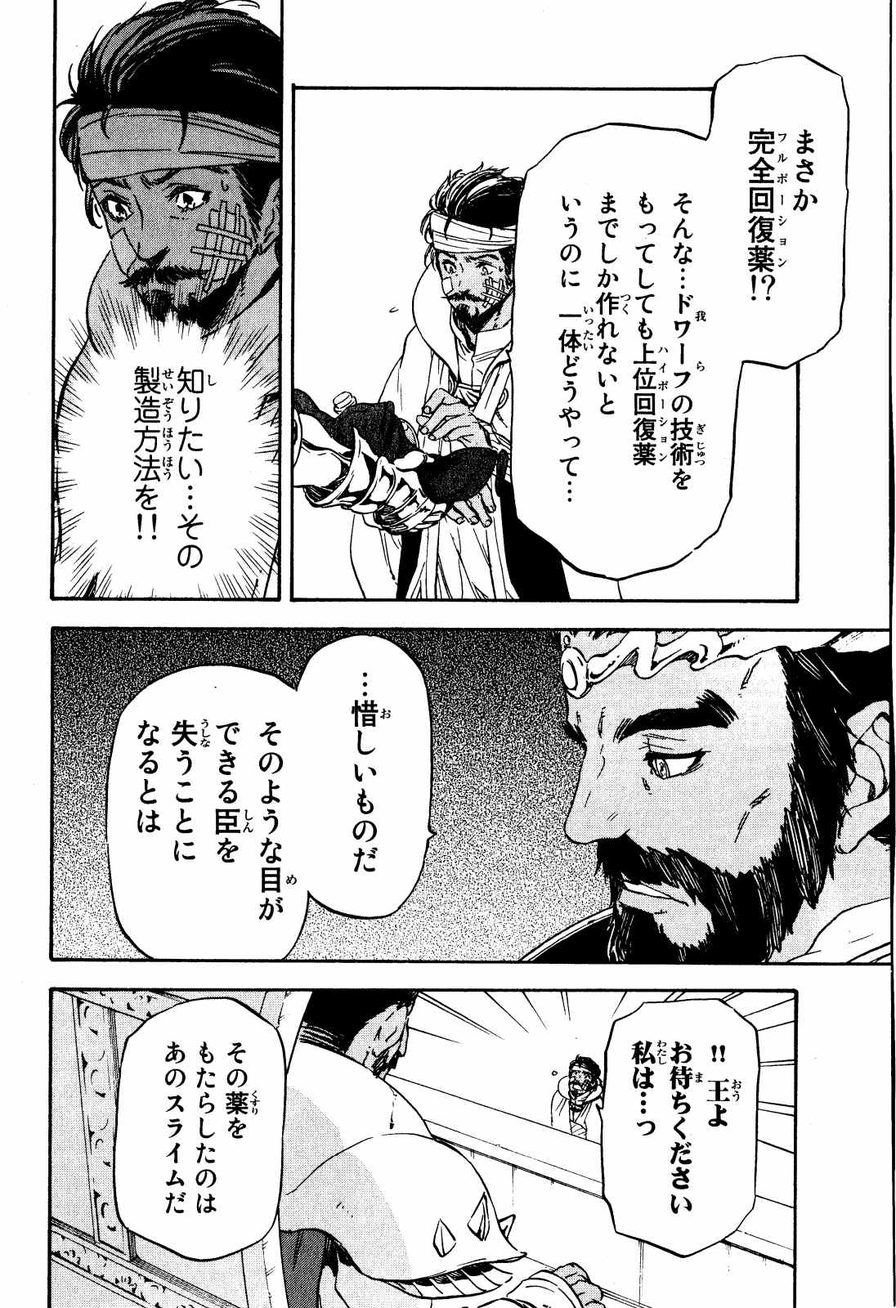bubbles: (499, 44, 854, 582), (101, 633, 444, 957), (110, 997, 291, 1265), (595, 997, 765, 1260)
